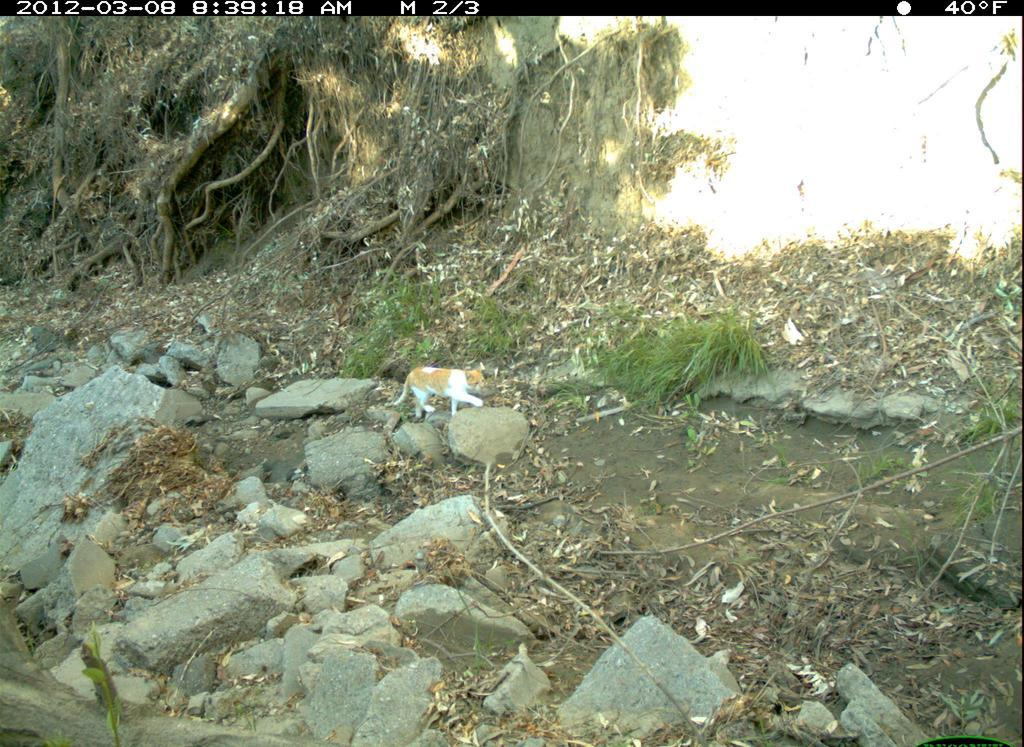cat: (391, 350, 493, 441)
